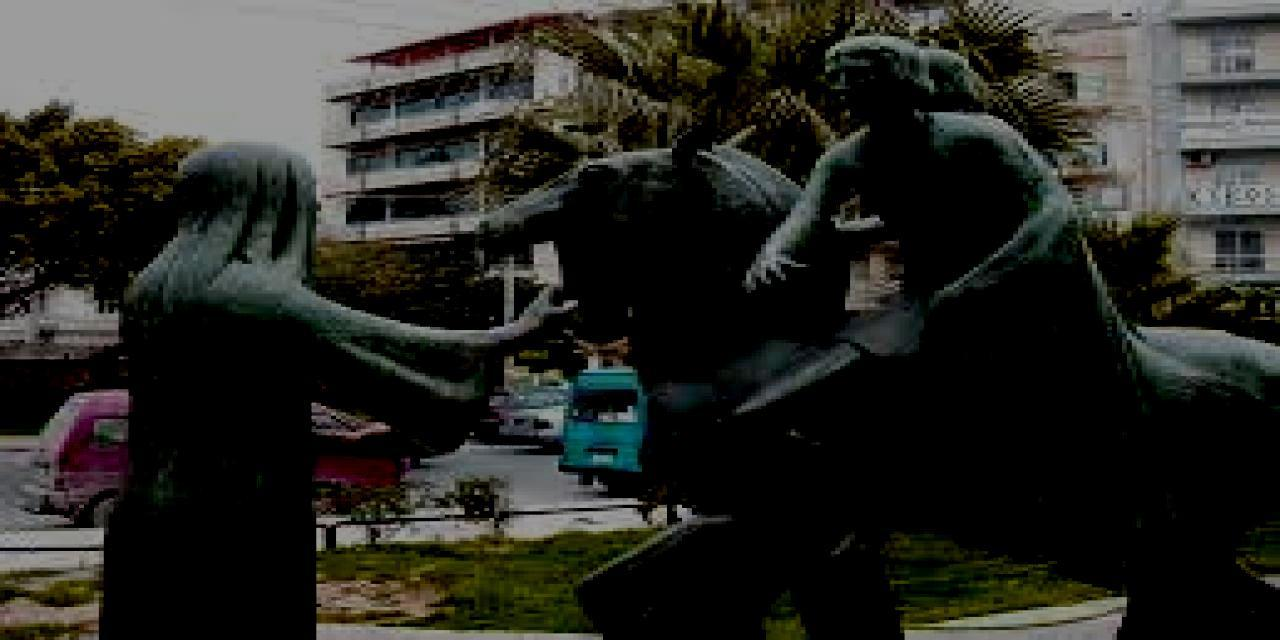Aretousa: (102, 34, 1278, 640)
